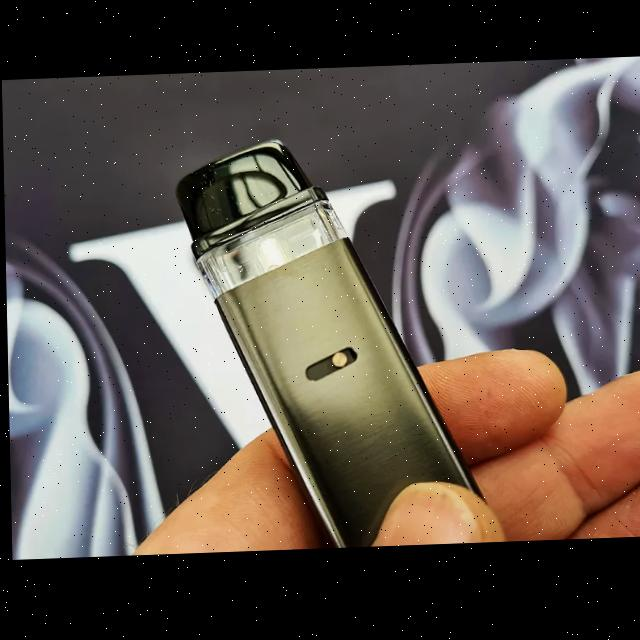vape: (175, 137, 486, 554)
